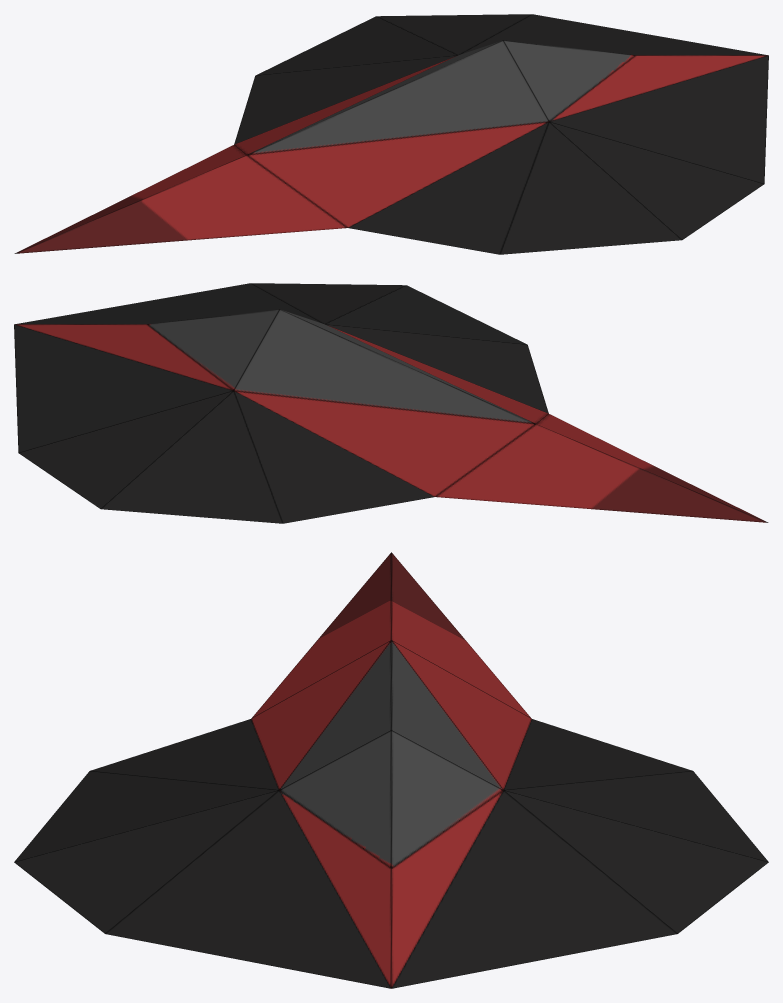
File: EnemyShip.fbx
3 renders of one model, top to bottom at view 1: azimuth 30°, elevation 25°; view 2: azimuth 150°, elevation 25°; view 3: azimuth 270°, elevation 25°, orthographic. The views are drawn at different scales.
Visible parts, largest first — view 1: EnemyShip; view 2: EnemyShip; view 3: EnemyShip.
Part boxes in pixels (x1=…): EnemyShip: x1=14, y1=14, x2=768, y2=254; EnemyShip: x1=14, y1=283, x2=768, y2=523; EnemyShip: x1=14, y1=552, x2=768, y2=988.
Bounding box in the file's own units: 974 × 204 × 684.
1 material, 1 textured.
